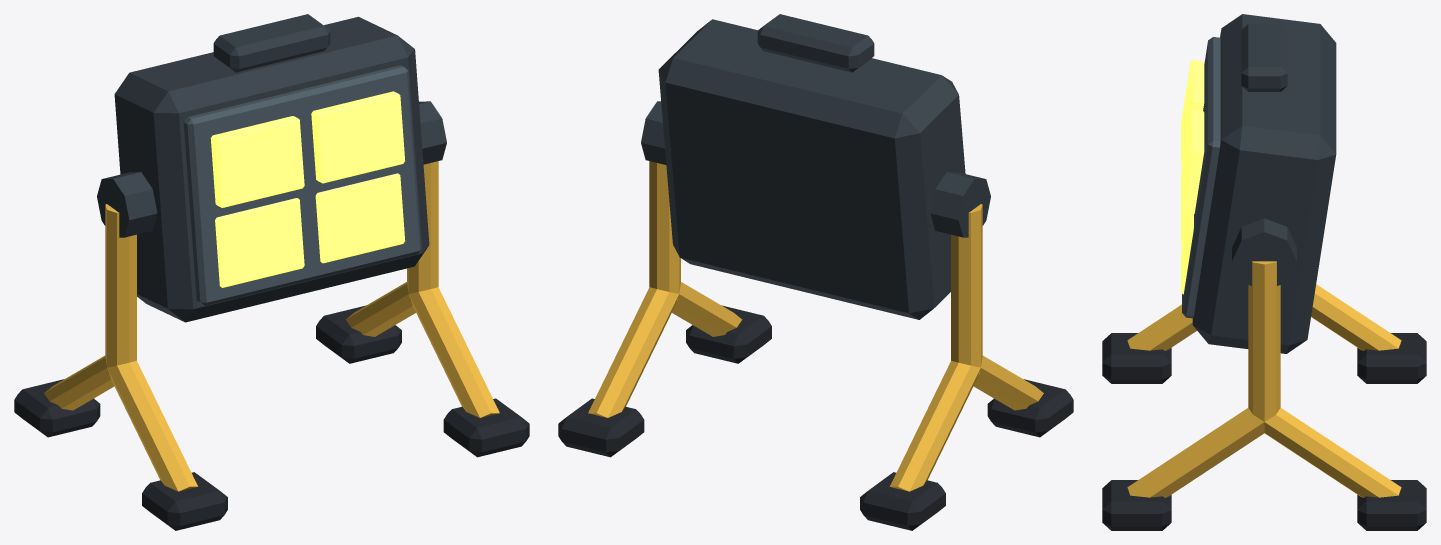
Rendered from Prop_WorkLight.fbx.
The picture shows the model from 3 angles, left to right: view 1: azimuth 30°, elevation 25°; view 2: azimuth 150°, elevation 25°; view 3: azimuth 270°, elevation 25°; orthographic projection.
Visible parts, largest first — view 1: FrameDark, Lens, Amber_Metal, Frame, Rubber; view 2: FrameDark, Amber_Metal, Rubber; view 3: FrameDark, Amber_Metal, Rubber, Frame, Lens.
Boxes of the visible parts, box(x1,y1,x2,y2) form: FrameDark: box(97, 14, 446, 322); Lens: box(210, 91, 405, 287); Amber_Metal: box(44, 161, 499, 491); Frame: box(183, 65, 421, 305); Rubber: box(14, 305, 529, 530); FrameDark: box(641, 14, 990, 319); Amber_Metal: box(588, 161, 1043, 491); Rubber: box(558, 305, 1073, 530); FrameDark: box(1192, 14, 1336, 353); Amber_Metal: box(1127, 261, 1401, 497); Rubber: box(1102, 333, 1426, 530); Frame: box(1182, 37, 1220, 318); Lens: box(1181, 60, 1204, 294).
Bounding box in the file's own units: 1.8 × 1.91 × 1.4.
